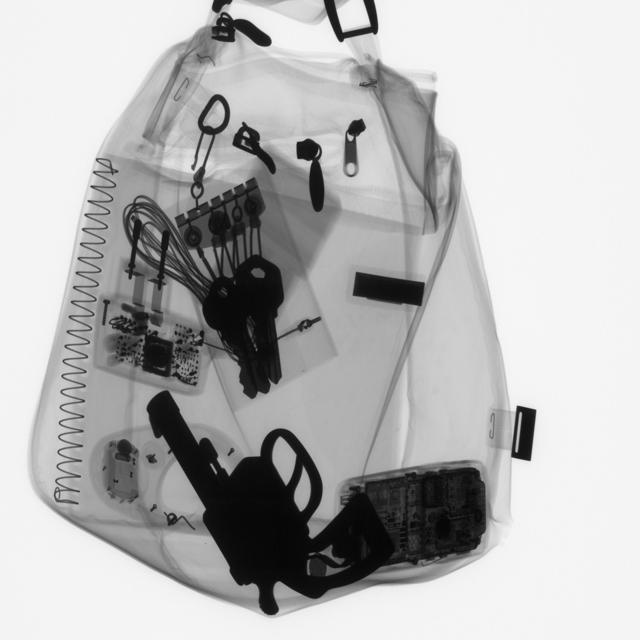gun: (137, 368, 408, 609)
